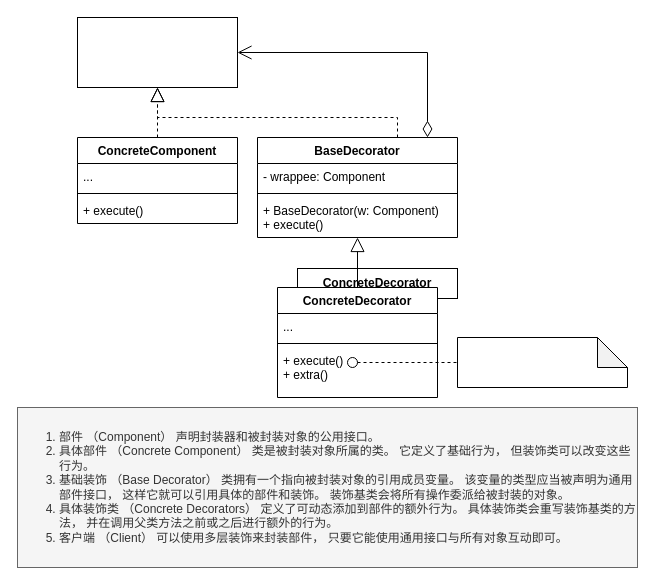
Some shapes in this 655 by 585 pixel diagram are drawn without their labels. The shapes that lost their labels are listed below. From the top down, each one's centre as x and y in pixels, then its label:
At [157,52]: "<<Interface>> Component + execute()".
At [542,362]: "super.execute() extra()".
